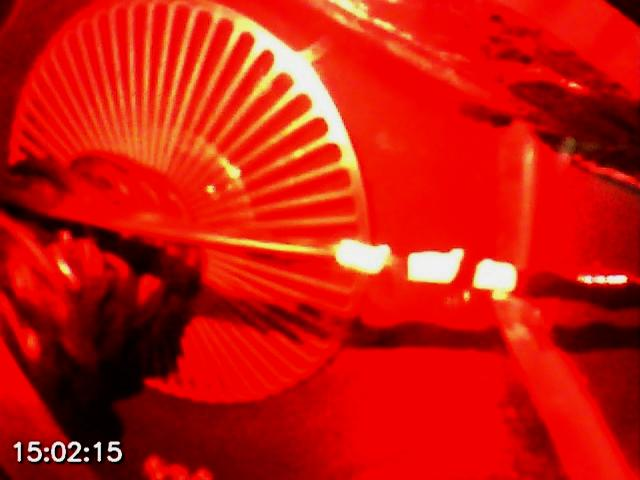white-dots: (332, 237, 518, 293)
